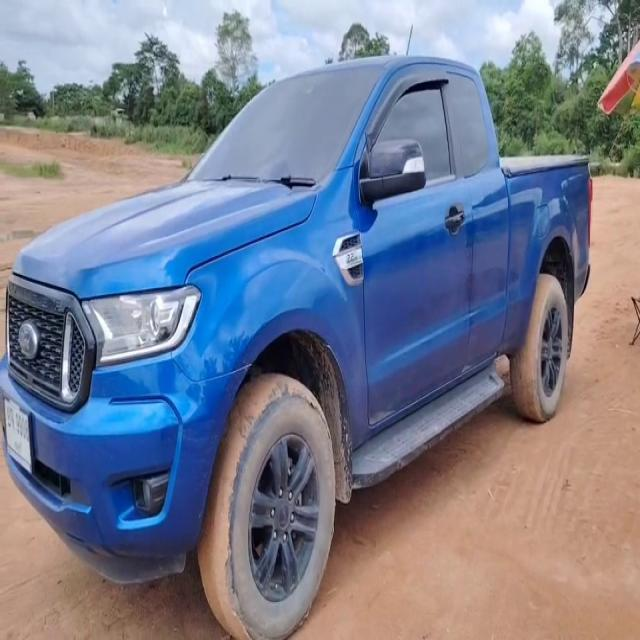Digit: (15, 412, 30, 443)
Licenseplate: (4, 396, 34, 478)
Provincename: (14, 438, 22, 457)
Thaichar: (7, 405, 15, 431)
